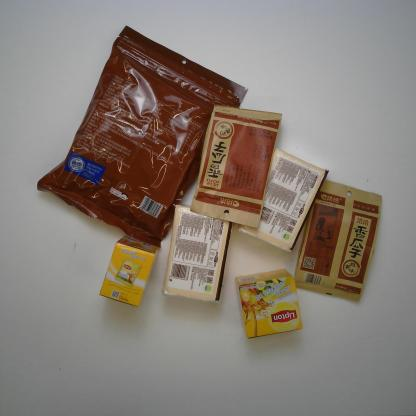Dried Food: (34, 22, 248, 249), (188, 103, 284, 234), (292, 180, 384, 307)
Instant Drink: (236, 266, 302, 340), (96, 234, 160, 309)
Tissue: (235, 148, 332, 254), (160, 199, 234, 305)
